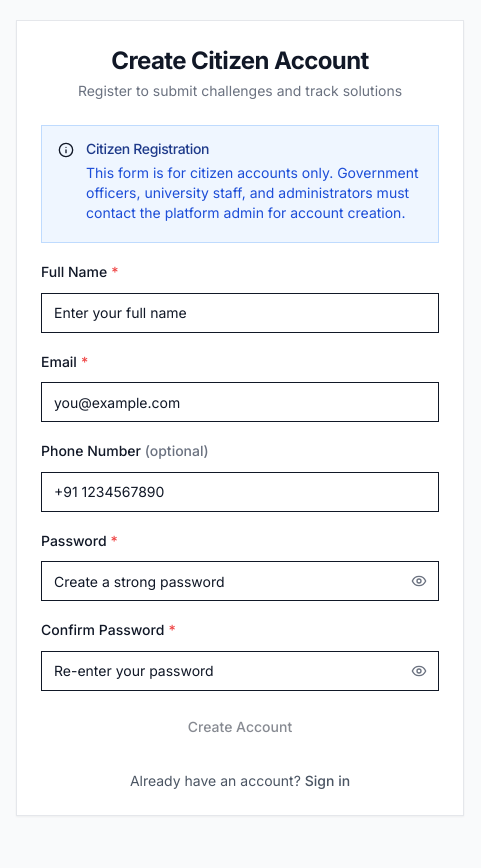
Scenario: RegisterPage › Client-side Validation › should validate name minimum length
Type "A" into the field labelled "Full Name*" at x=240, y=313, box x1=41 y1=293 x2=439 y2=333
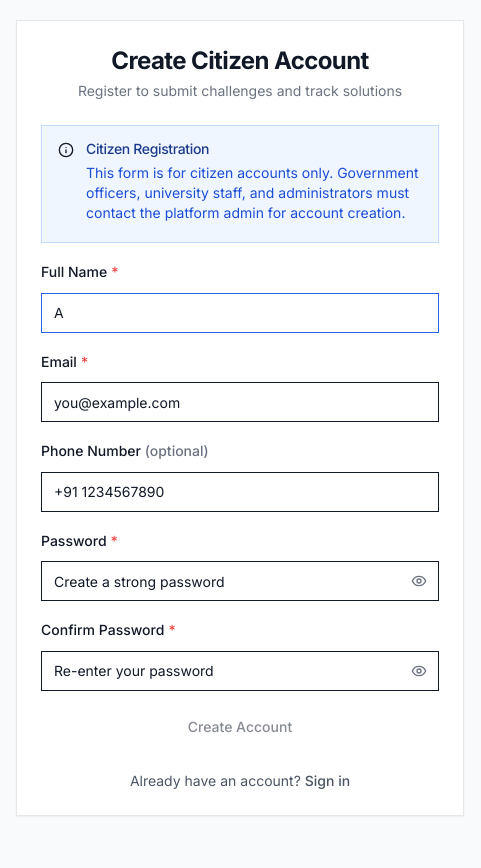
Type "Password123!" into the password field labelled "Password*" at x=240, y=581, box x1=41 y1=561 x2=439 y2=601
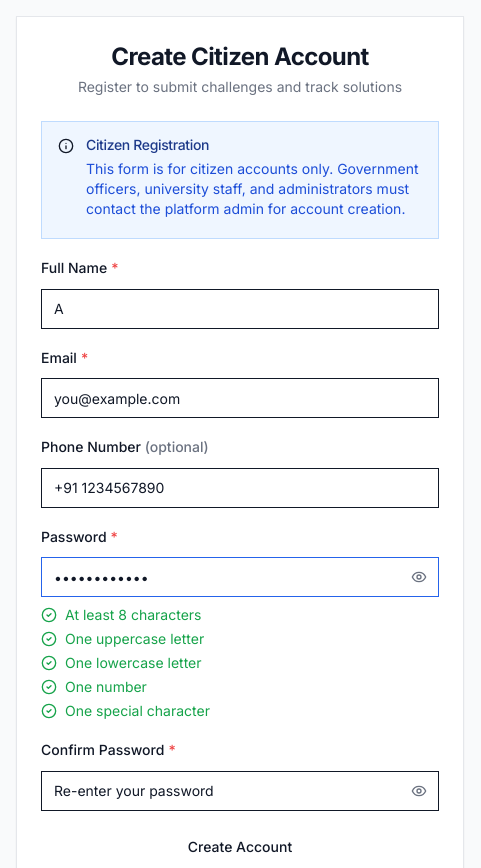
Type "Password123!" into the password field labelled "Confirm Password*" at x=240, y=791, box x1=41 y1=771 x2=439 y2=811
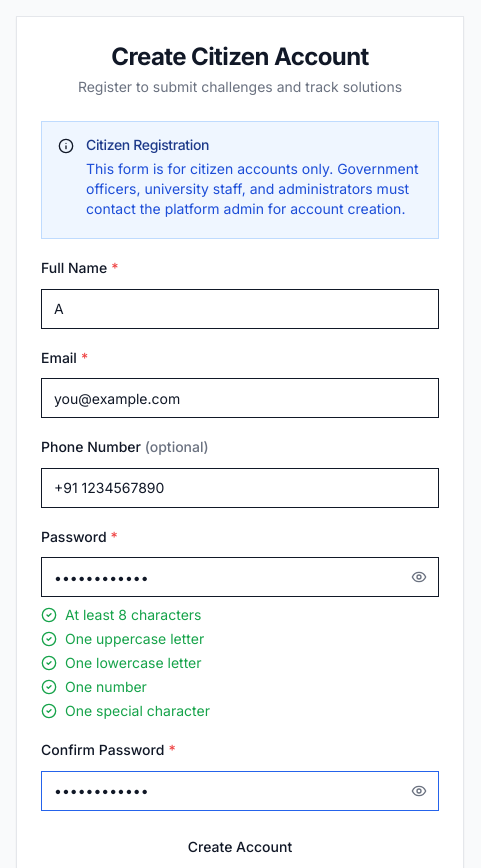
Click the button "Create Account" at x=240, y=847, box x1=41 y1=827 x2=439 y2=867
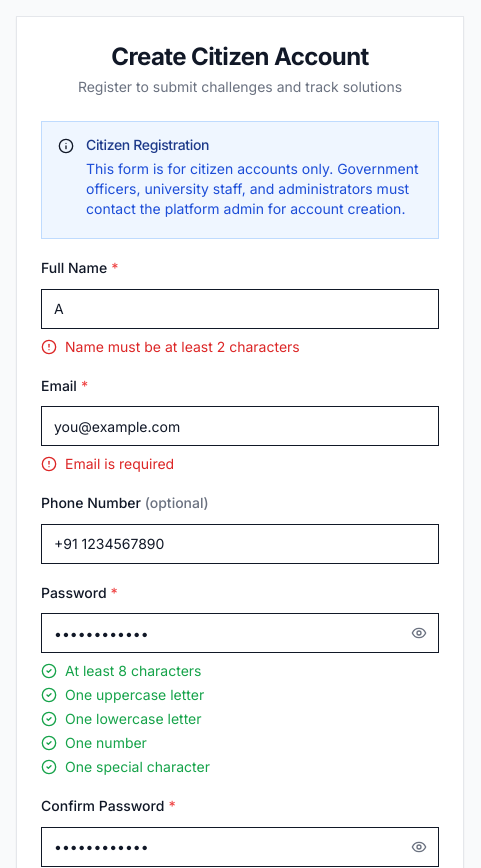
expect the text "Name must be at least 2 characters" is shown: met, box x1=65 y1=337 x2=300 y2=357
